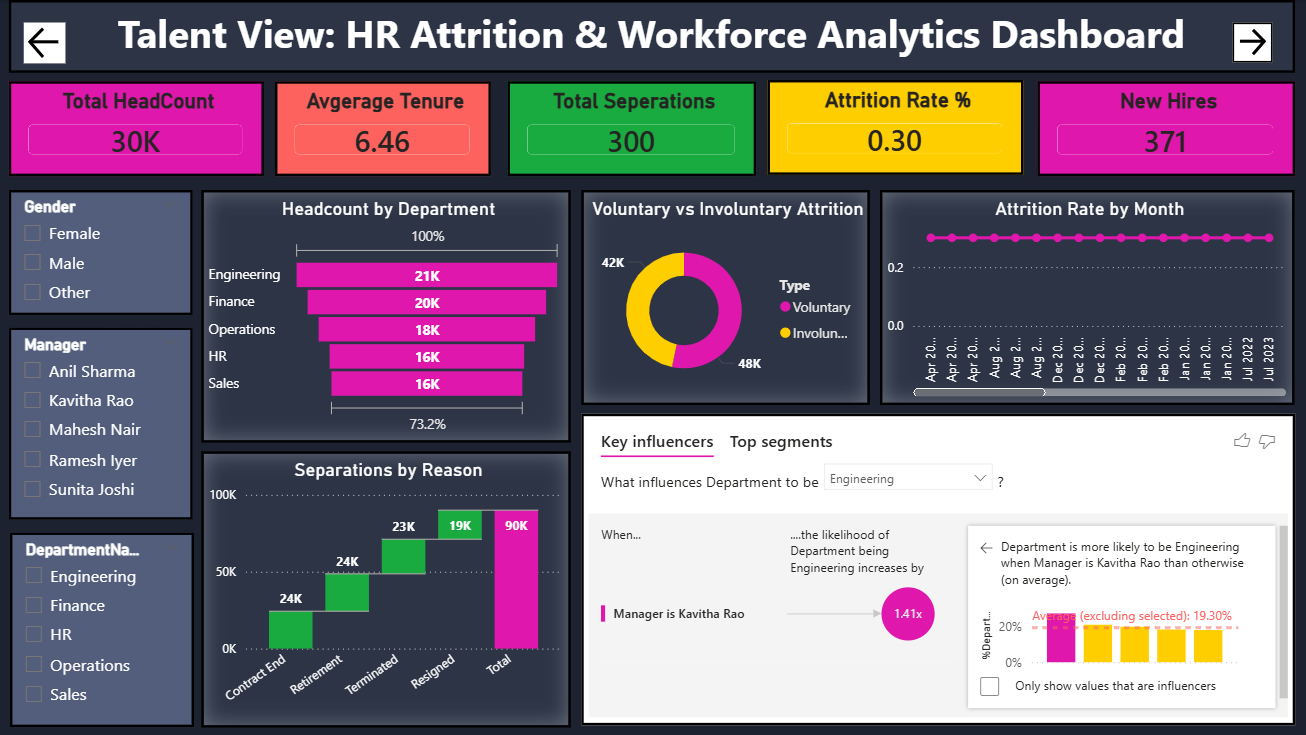

The page's visual inventory and layout, read from the dashboard file:
{"tool":"powerbi","page":{"name":"Attrition Analysis","canvas":[1280,720],"ordinal":2},"visuals":[{"type":"funnel","title":"Headcount by Department","fields":{"Y":["fSeparations.Separations"],"Category":["dDepartment.DepartmentName"]},"box":[196.9,185.9,362,247],"z":0},{"type":"slicer","fields":{"Values":["dDemographics.Gender"]},"box":[8.6,185.9,179.8,122.3],"z":1000},{"type":"slicer","fields":{"Values":["dEmployee.Manager"]},"box":[8.6,320.4,179.8,188.3],"z":2000},{"type":"slicer","fields":{"Values":["dDepartment.DepartmentName"]},"box":[9.8,520.9,179.8,190.8],"z":3000},{"type":"textbox","box":[8.6,0,1258.3,70.9],"z":4000},{"type":"cardVisual","title":"Total HeadCount","fields":{"Data":["fSeparations.Headcount121"]},"box":[8.6,79.5,249.5,92.9],"z":5000},{"type":"cardVisual","title":"Avgerage Tenure","fields":{"Data":["dEmployee.Avg Tenure"]},"box":[269,79.5,211.6,92.9],"z":6000},{"type":"cardVisual","title":"Total Seperations","fields":{"Data":["fSeparations.Separations111"]},"box":[496.5,79.5,243.3,92.9],"z":7000},{"type":"cardVisual","title":"Attrition Rate %","fields":{"Data":["fSeparations.Attrition Rate % (Rolling 12M)"]},"box":[750.8,78.3,250.7,92.9],"z":8000},{"type":"cardVisual","title":"New Hires","fields":{"Data":["Hiring Funnel Stages.New Hires"]},"box":[1015,79.5,251.9,92.9],"z":9000},{"type":"actionButton","box":[1205.7,22,39.1,39.1],"z":10000},{"type":"lineChart","title":"Attrition Rate by Month","fields":{"Category":["Calendar.MonthYear"],"Y":["fSeparations.Attrition Rate % (Rolling 12M)"]},"box":[860.9,185.9,406,210.3],"z":11000},{"type":"waterfallChart","title":"Separations by Reason","fields":{"Category":["fSeparations.Reason"],"Y":["fSeparations.Separations"]},"box":[196.9,441.4,362,270.2],"z":12000},{"type":"donutChart","title":"Voluntary vs Involuntary Attrition","fields":{"Category":["fSeparations.Type"],"Y":["fSeparations.Separations"]},"box":[568.6,185.9,282.5,210.3],"z":13000},{"type":"keyDriversVisual","fields":{"Target":["dEmployee.Department"],"ExplainBy":["dEmployee.Manager","dDemographics.AgeGroup","dDemographics.Gender","fSeparations.Reason"]},"box":[568.6,404.8,698.2,304.5],"z":14000},{"type":"actionButton","box":[23.1,21.8,41.1,39.8],"z":15000}]}

Visuals, with their boxes in screenshot pixels (x1, y1, x2, y2), scaled from the page's 1280x720 canvas onto the 1306x735 screenshot:
"Headcount by Department" funnel: (201, 190, 570, 442)
slicer - dDemographics.Gender: (9, 190, 192, 315)
slicer - dEmployee.Manager: (9, 327, 192, 519)
slicer - dDepartment.DepartmentName: (10, 532, 193, 727)
textbox: (9, 0, 1293, 72)
"Total HeadCount" cardVisual: (9, 81, 263, 176)
"Avgerage Tenure" cardVisual: (274, 81, 490, 176)
"Total Seperations" cardVisual: (507, 81, 755, 176)
"Attrition Rate %" cardVisual: (766, 80, 1022, 175)
"New Hires" cardVisual: (1036, 81, 1293, 176)
actionButton: (1230, 22, 1270, 62)
"Attrition Rate by Month" lineChart: (878, 190, 1293, 404)
"Separations by Reason" waterfallChart: (201, 451, 570, 726)
"Voluntary vs Involuntary Attrition" donutChart: (580, 190, 868, 404)
keyDriversVisual - dEmployee.Department x dEmployee.Manager: (580, 413, 1293, 724)
actionButton: (24, 22, 66, 63)
